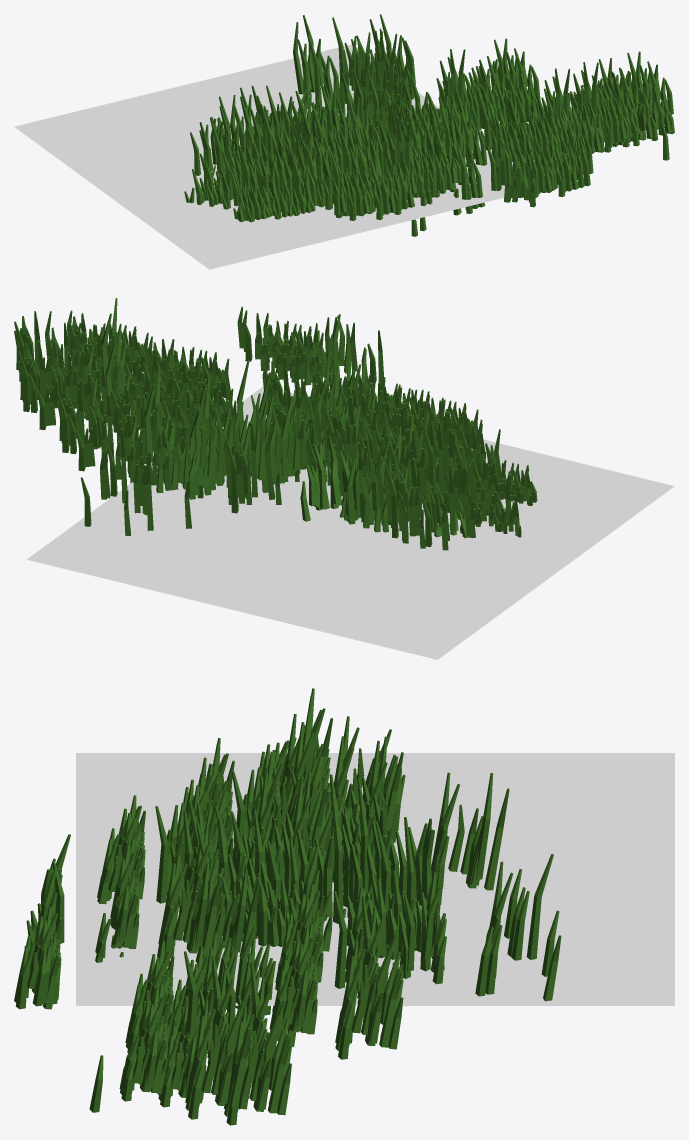
The model's file is 1rumput jadi.fbx.
The picture shows the model from 3 angles, top to bottom: view 1: azimuth 30°, elevation 25°; view 2: azimuth 150°, elevation 25°; view 3: azimuth 270°, elevation 25°; orthographic projection. The views are drawn at different scales.
Visible parts, largest first — view 1: Cube.1761, Plane; view 2: Cube.1761, Plane; view 3: Cube.1761, Plane.
Part boxes in pixels (box(x1,y1,x2,y2)): Cube.1761: box(184, 14, 674, 236); Plane: box(14, 44, 512, 269); Cube.1761: box(14, 298, 537, 550); Plane: box(27, 386, 674, 659); Cube.1761: box(14, 688, 561, 1125); Plane: box(76, 753, 674, 1005).
Bounding box in the file's own units: 529 × 137 × 393.
